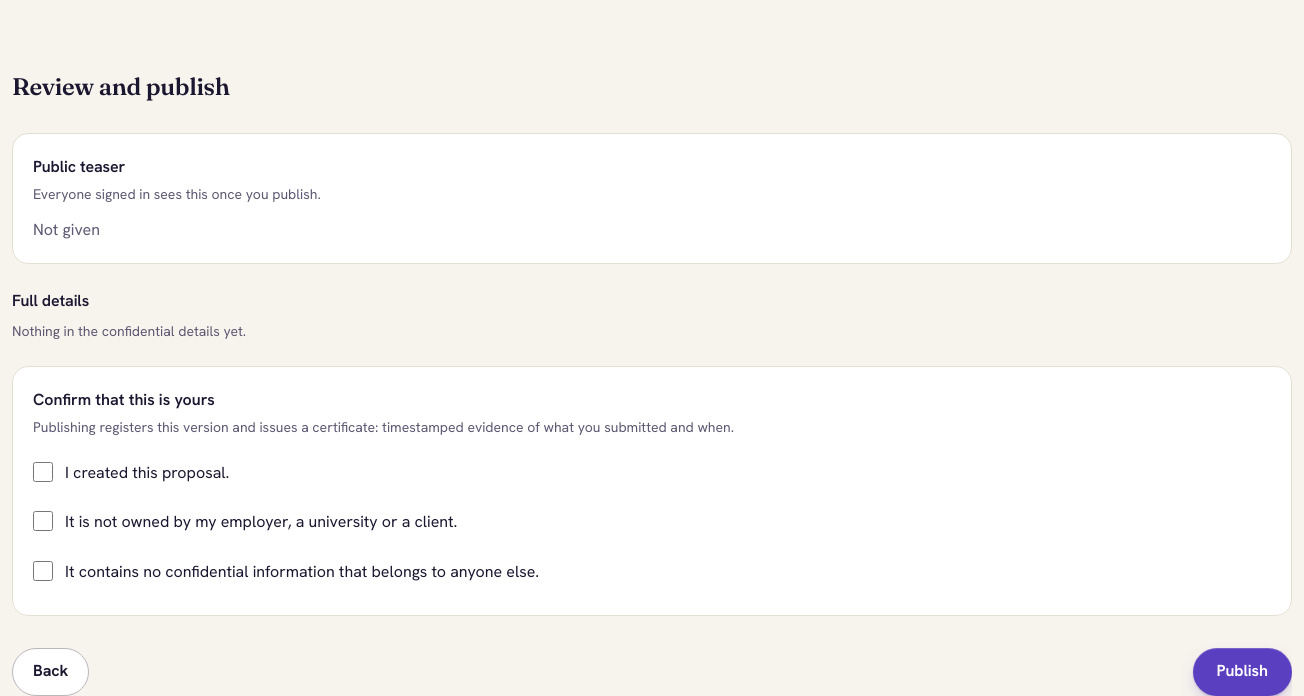
it: publish checks › announces what stops publishing and moves focus to it
(page scrolled)
Click the button "Publish". click: (1242, 672)
box: [1193, 648, 1292, 695]
(page scrolled)
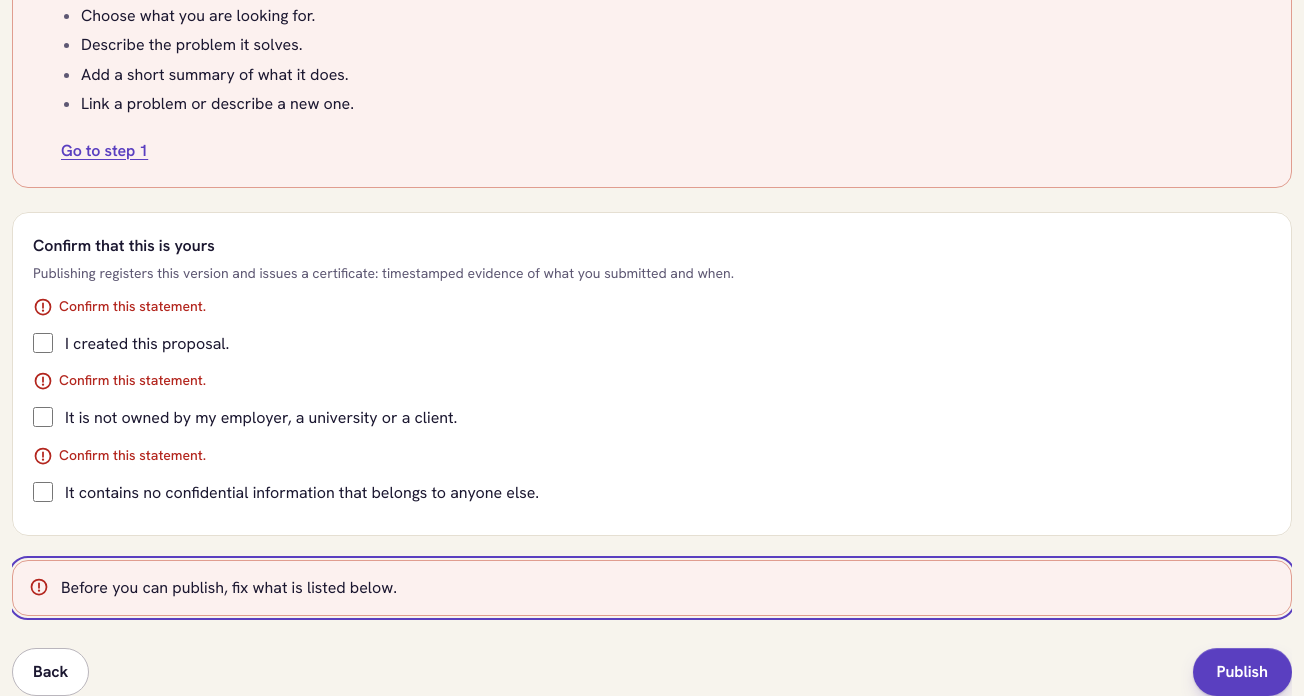
Now the message shows "Before you can publish", box [61, 577, 397, 598]
